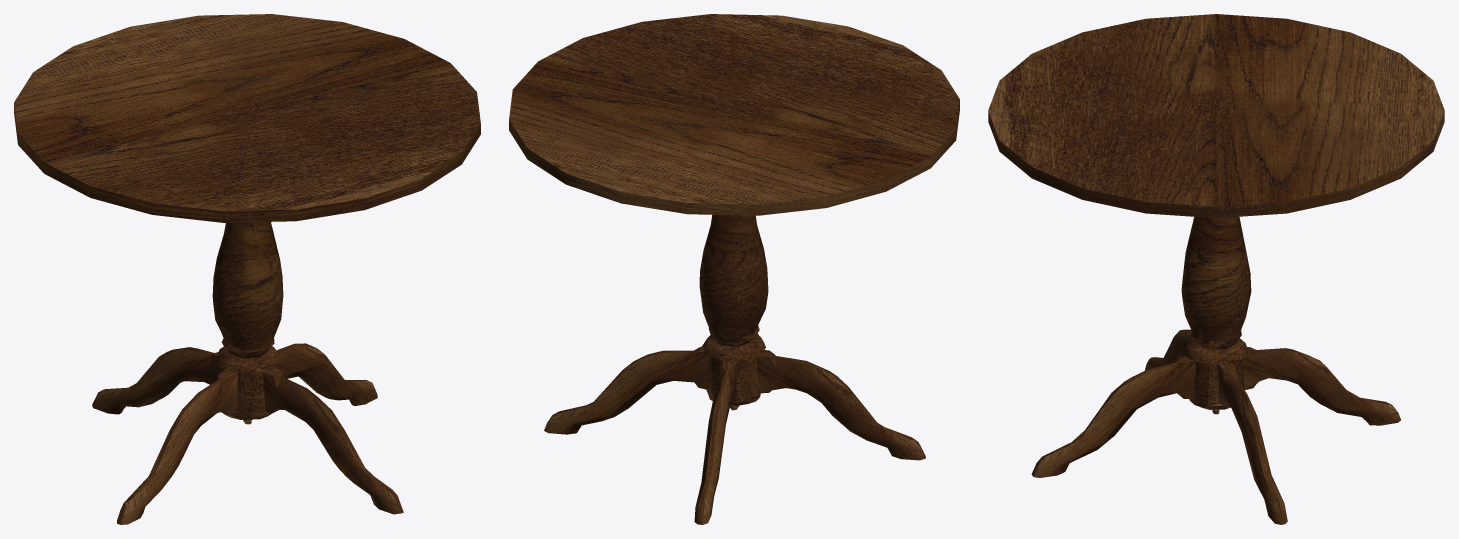
Rendered from Table 2.FBX.
3 views of the same model, side by side, from view 1: azimuth 30°, elevation 25°; view 2: azimuth 150°, elevation 25°; view 3: azimuth 270°, elevation 25° (orthographic). The views are drawn at different scales.
Visible parts, largest first — view 1: Table 2; view 2: Table 2; view 3: Table 2.
Part boxes in pixels (bbox=[...]): Table 2: bbox=[14, 14, 480, 524]; Table 2: bbox=[509, 14, 959, 524]; Table 2: bbox=[988, 14, 1444, 524].
Bounding box in the file's own units: 1349 × 1349 × 1100.
Materials: 1 (1 with a texture image).
